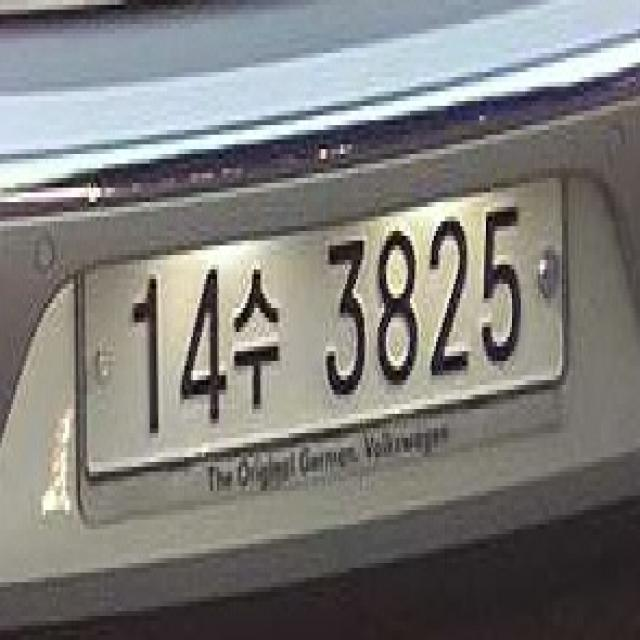1: (128, 260, 169, 462)
2: (423, 207, 475, 399)
3: (319, 221, 371, 414)
4: (178, 255, 230, 448)
5: (475, 183, 529, 380)
8: (371, 212, 423, 404)
license_plate: (72, 149, 577, 539)
su: (230, 250, 289, 433)
